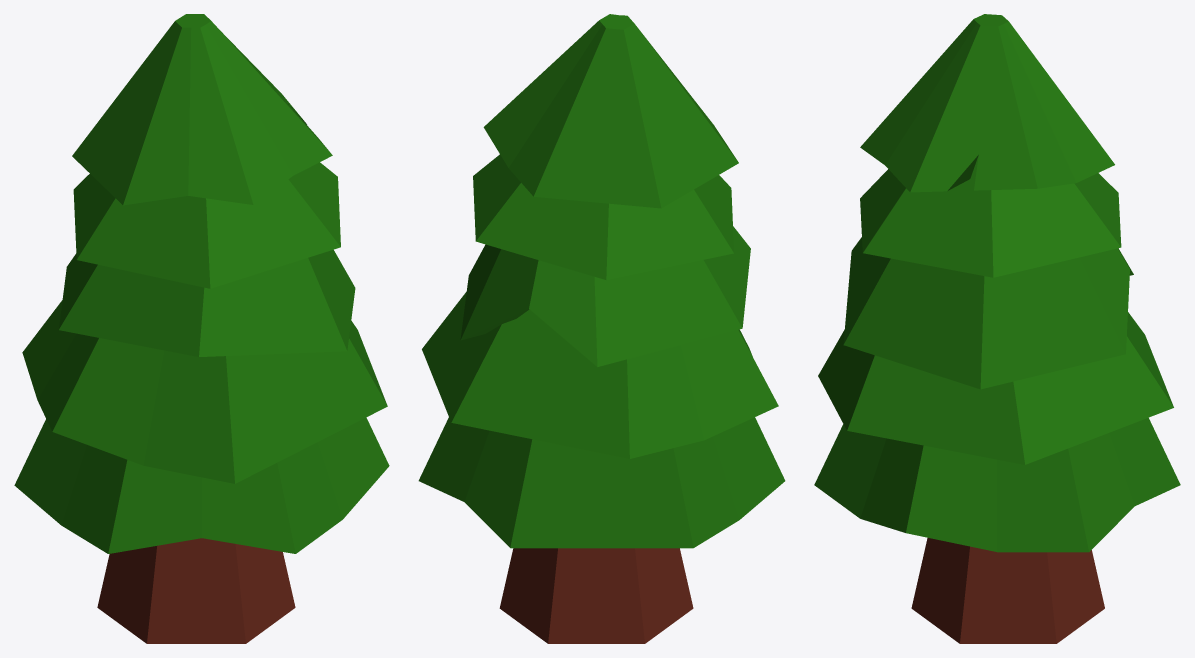
The model's file is tree.gltf.
3 views of the same model, side by side, from view 1: azimuth 30°, elevation 25°; view 2: azimuth 150°, elevation 25°; view 3: azimuth 270°, elevation 25° (orthographic). The views are drawn at different scales.
Parts seen in each view (by area): view 1: Cylinder.002_2, Cylinder.005_5, Cylinder.001_1, Cylinder.003_3, Cylinder.004_4, Cylinder_0; view 2: Cylinder.002_2, Cylinder.001_1, Cylinder.005_5, Cylinder.003_3, Cylinder.004_4, Cylinder_0; view 3: Cylinder.001_1, Cylinder.003_3, Cylinder.005_5, Cylinder.002_2, Cylinder.004_4, Cylinder_0.
Part boxes in pixels (x1,y1,x2,y2): Cylinder.002_2: [22, 300, 387, 483]; Cylinder.005_5: [72, 14, 332, 205]; Cylinder.001_1: [14, 417, 389, 553]; Cylinder.003_3: [58, 249, 355, 356]; Cylinder.004_4: [73, 162, 340, 288]; Cylinder_0: [97, 538, 295, 643]; Cylinder.002_2: [422, 292, 778, 458]; Cylinder.001_1: [418, 417, 785, 548]; Cylinder.005_5: [483, 14, 738, 208]; Cylinder.003_3: [460, 226, 750, 366]; Cylinder.004_4: [473, 154, 733, 280]; Cylinder_0: [499, 548, 693, 643]; Cylinder.001_1: [814, 417, 1180, 552]; Cylinder.003_3: [843, 237, 1133, 389]; Cylinder.005_5: [860, 14, 1114, 192]; Cylinder.002_2: [818, 312, 1173, 464]; Cylinder.004_4: [860, 169, 1121, 277]; Cylinder_0: [911, 538, 1104, 643].
Bounding box in the file's own units: 3.91 × 6.65 × 3.79.
